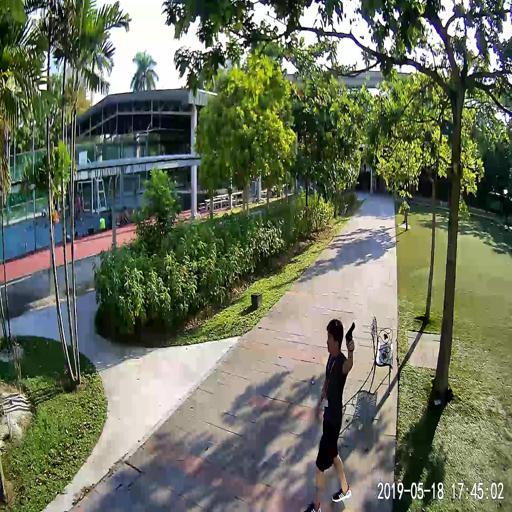Handgun: (344, 319, 353, 343)
